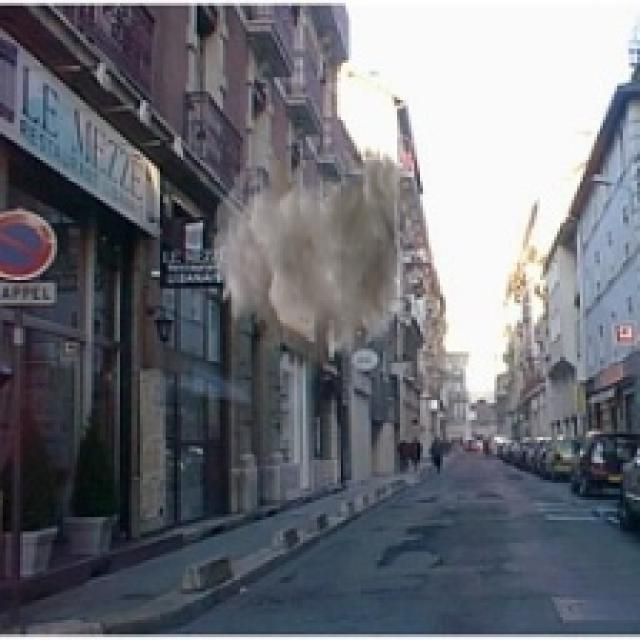smoke: (212, 146, 414, 386)
